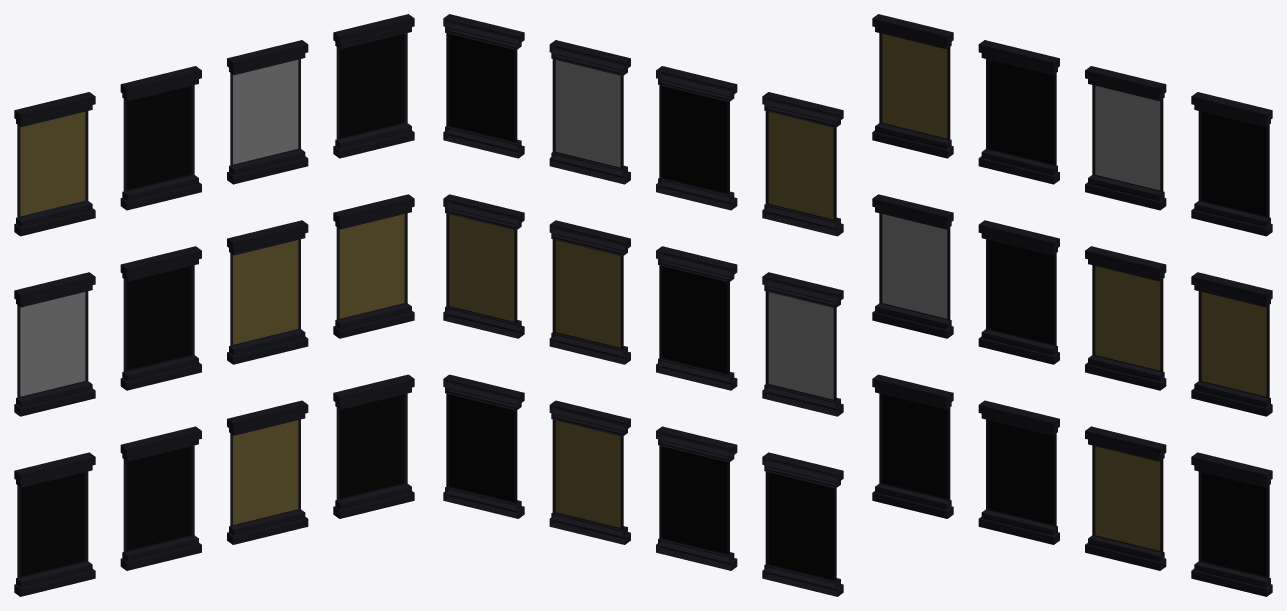
File: SM_Windows_001.fbx
3 views of the same model, side by side, from view 1: azimuth 30°, elevation 25°; view 2: azimuth 150°, elevation 25°; view 3: azimuth 330°, elevation 25° (orthographic).
Visible parts, largest first — view 1: SM_Windows_001; view 2: SM_Windows_001; view 3: SM_Windows_001.
Part boxes in pixels (x1=…): SM_Windows_001: x1=14, y1=14, x2=414, y2=596; SM_Windows_001: x1=443, y1=14, x2=843, y2=596; SM_Windows_001: x1=872, y1=14, x2=1272, y2=596.
Bounding box in the file's own units: 501 × 585 × 13.57.
